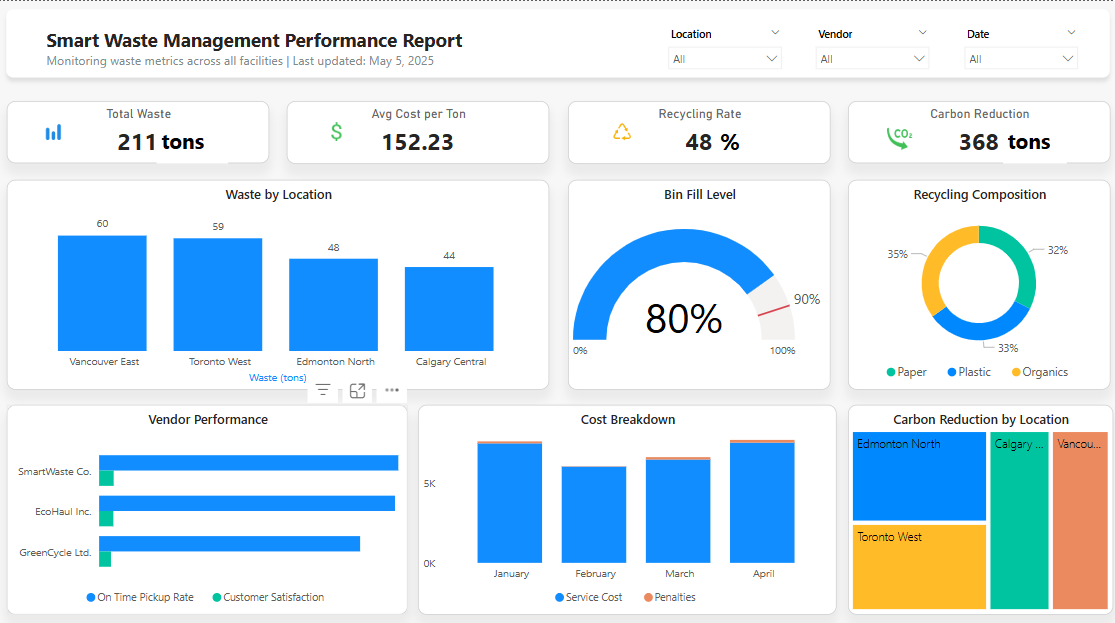

What the dashboard file says about the page in this screenshot:
{"tool":"powerbi","page":{"name":"Waste Management","canvas":[1280,720],"ordinal":0},"visuals":[{"type":"group","id":"g1","title":"Group 1","box":[0,0,1280,97.1],"z":0},{"type":"shape","box":[0,0,1280,97.1],"z":0,"group":"g1"},{"type":"card","title":"Recycling Rate","fields":{"Values":["Measures_Table.Recycling Rate"]},"box":[651,114.6,300,72],"z":0,"group":"g2"},{"type":"group","id":"g2","title":"Group 2","box":[10,114.6,1261.4,72],"z":1000},{"type":"card","title":"Total Waste","fields":{"Values":["Measures_Table.Total Waste","select"]},"box":[10,114.9,300,71.4],"z":1000,"group":"g2"},{"type":"card","title":"Avg Cost per Ton","fields":{"Values":["Measures_Table.Avg Cost Per Ton"]},"box":[330.5,114.6,300,72],"z":2000,"group":"g2"},{"type":"clusteredColumnChart","title":"Waste by Location","fields":{"Category":["waste_collection_summary.Location"],"Y":["Measures_Table.Total Waste"]},"box":[10,204,620,240],"z":2000},{"type":"textbox","box":[50,24.2,515.1,57],"z":3000,"group":"g1"},{"type":"textbox","box":[1148.6,138.6,72.9,47.1],"z":3000},{"type":"textbox","box":[181.4,138.9,81.4,47.1],"z":3000,"group":"g2"},{"type":"slicer","title":"Locations","fields":{"Values":["waste_collection_summary.Location"]},"box":[755,23.9,150,54],"z":4000,"group":"g1"},{"type":"card","title":"Carbon Reduction","fields":{"Values":["Measures_Table.Total Carbon Reduction"]},"box":[971.4,114.9,300,71.4],"z":4000,"group":"g2"},{"type":"clusteredBarChart","title":"Vendor Performance","fields":{"Category":["vendor_scorecard.Vendor"],"Y":["Sum(vendor_scorecard.OnTimePickupRate)","Sum(vendor_scorecard.CustomerSatisfaction)"]},"box":[10,461.4,458.6,240],"z":4000},{"type":"slicer","title":"Vendors","fields":{"Values":["waste_collection_summary.Vendor"]},"box":[924.4,23.9,150,54],"z":5000,"group":"g1"},{"type":"image","box":[35.7,134.4,55.7,31.4],"z":5000,"group":"g2"},{"type":"donutChart","title":"Recycling Composition","fields":{"Y":["Sum(recycling_performance.Paper)","Sum(recycling_performance.Plastic)","Sum(recycling_performance.Organics)"]},"box":[971.4,204.3,300,240],"z":5000},{"type":"slicer","title":"Time","fields":{"Values":["waste_collection_summary.Date"]},"box":[1093.8,23.9,150,54],"z":6000,"group":"g1"},{"type":"image","box":[360,133.2,54.3,32.9],"z":6000,"group":"g2"},{"type":"treemap","title":"Carbon Reduction by Location","fields":{"Group":["sustainability_kpis.Location"],"Values":["Measures_Table.Total Carbon Reduction"]},"box":[971.4,461.4,302.9,240],"z":6000},{"type":"image","box":[990,136.6,80,41.4],"z":7000,"group":"g2"},{"type":"columnChart","title":"Cost Breakdown","fields":{"Category":["waste_collection_summary.Date.Variation.Date Hierarchy.Month"],"Y":["Measures_Table.Total Service Cost","Measures_Table.Total Penalties"]},"box":[480.7,461.4,478.6,240],"z":7000},{"type":"image","box":[685.7,134.9,55.7,30],"z":8000,"group":"g2"},{"type":"gauge","title":"Bin Fill Level","fields":{"Y":["Avg(waste_collection_summary.BinFillPercent)"]},"box":[651.4,204.3,300,240],"z":8000},{"type":"textbox","box":[820,137.1,88.6,45.7],"z":9000}]}

Visuals, with their boxes in screenshot pixels (x1, y1, x2, y2), scaled from the page's 1280x720 canvas onto the 1115x623 screenshot:
"Group 1" group: x1=0, y1=0, x2=1114, y2=84
shape: x1=0, y1=0, x2=1114, y2=84
"Recycling Rate" card: x1=567, y1=99, x2=828, y2=161
"Group 2" group: x1=9, y1=99, x2=1108, y2=161
"Total Waste" card: x1=9, y1=99, x2=270, y2=161
"Avg Cost per Ton" card: x1=288, y1=99, x2=549, y2=161
"Waste by Location" clusteredColumnChart: x1=9, y1=177, x2=549, y2=384
textbox: x1=44, y1=21, x2=492, y2=70
textbox: x1=1001, y1=120, x2=1064, y2=161
textbox: x1=158, y1=120, x2=229, y2=161
"Locations" slicer: x1=658, y1=21, x2=788, y2=67
"Carbon Reduction" card: x1=846, y1=99, x2=1108, y2=161
"Vendor Performance" clusteredBarChart: x1=9, y1=399, x2=408, y2=607
"Vendors" slicer: x1=805, y1=21, x2=936, y2=67
image: x1=31, y1=116, x2=80, y2=143
"Recycling Composition" donutChart: x1=846, y1=177, x2=1108, y2=384
"Time" slicer: x1=953, y1=21, x2=1083, y2=67
image: x1=314, y1=115, x2=361, y2=144
"Carbon Reduction by Location" treemap: x1=846, y1=399, x2=1110, y2=607
image: x1=862, y1=118, x2=932, y2=154
"Cost Breakdown" columnChart: x1=419, y1=399, x2=836, y2=607
image: x1=597, y1=117, x2=646, y2=143
"Bin Fill Level" gauge: x1=567, y1=177, x2=829, y2=384
textbox: x1=714, y1=119, x2=791, y2=158
